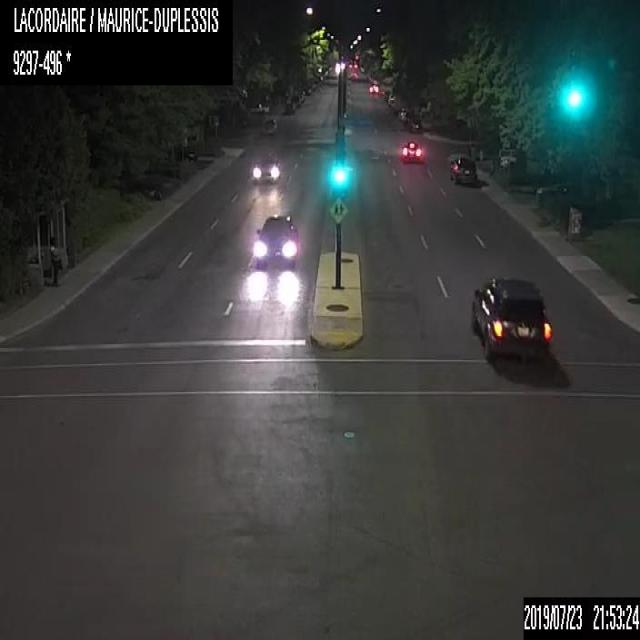pedestrian: (49, 233, 58, 286)
vehicle: (470, 274, 550, 359), (254, 212, 297, 265), (533, 182, 589, 204), (252, 153, 284, 184), (498, 152, 542, 170), (448, 156, 476, 183), (399, 137, 420, 163), (260, 114, 278, 134), (249, 102, 269, 113), (407, 116, 421, 131), (283, 100, 295, 114), (291, 93, 300, 105), (297, 89, 304, 101), (368, 84, 378, 92)
